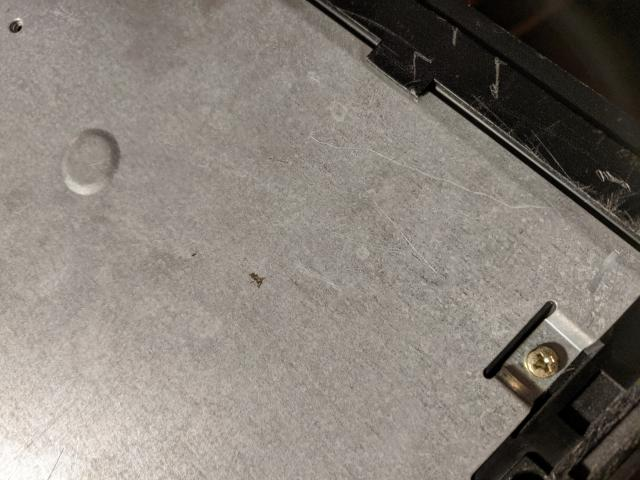CRS: (525, 346, 562, 378)
